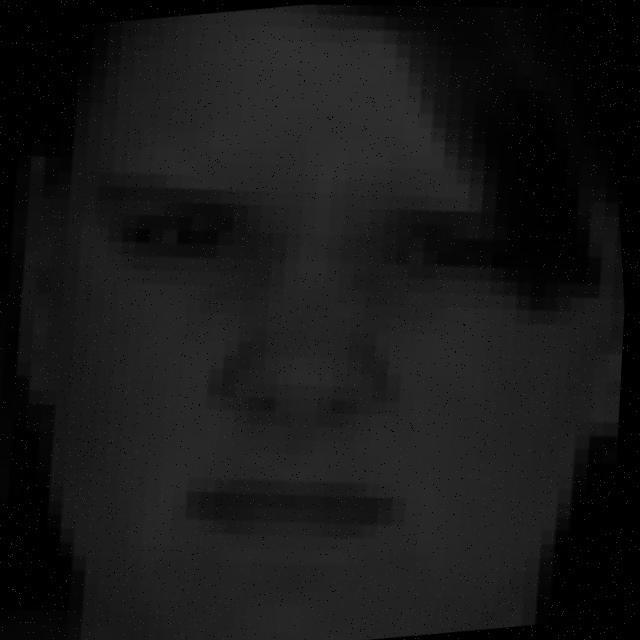Disgust: (80, 112, 580, 604)
